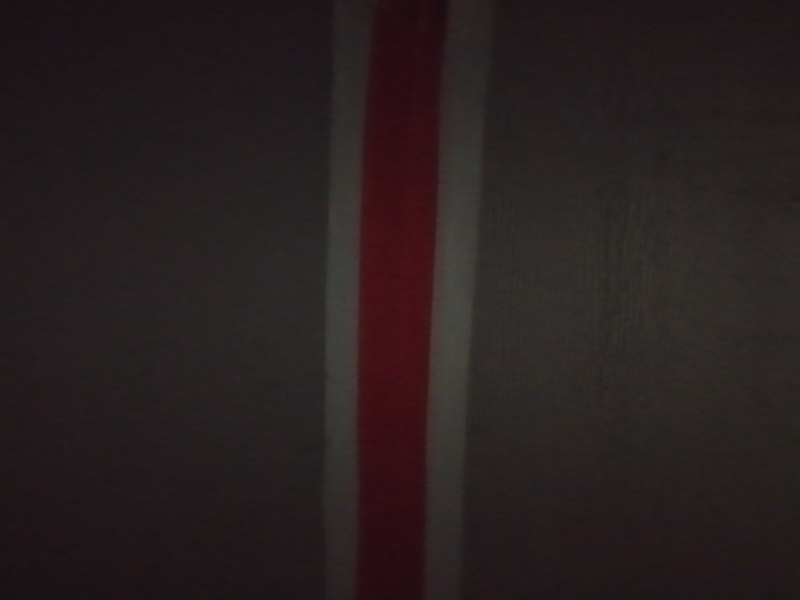reta: (308, 24, 472, 600)
